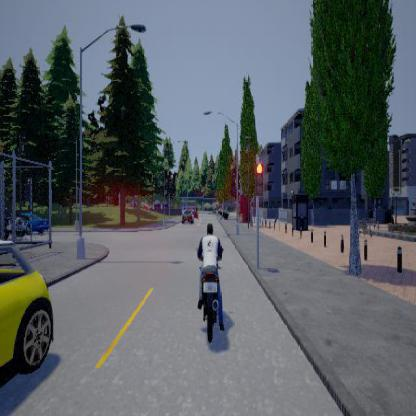motobike: (193, 221, 224, 342)
traffic_light_red: (255, 157, 262, 202)
vehicle: (0, 209, 54, 387), (180, 208, 194, 224)
